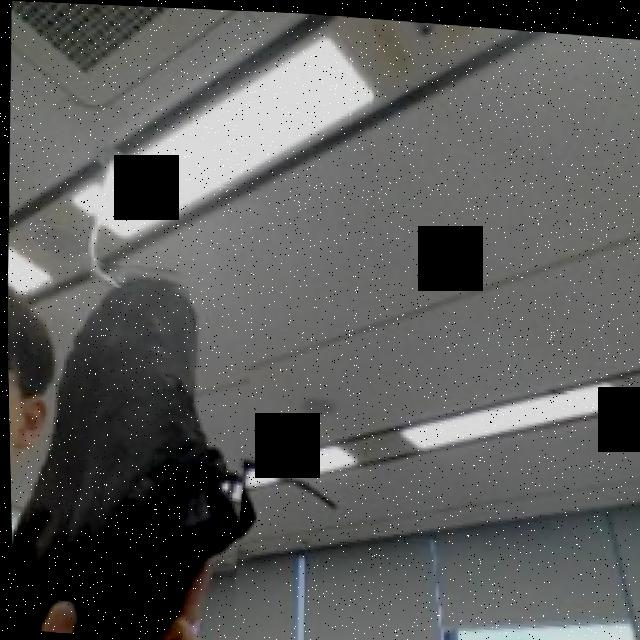shoe: (4, 249, 262, 640)
